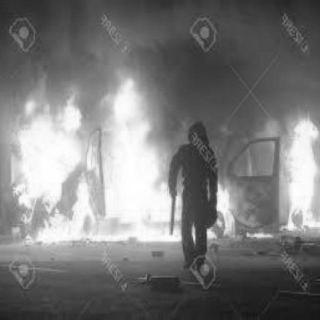Fire: (10, 66, 186, 244), (279, 112, 320, 230), (247, 229, 275, 237), (192, 222, 198, 242)
